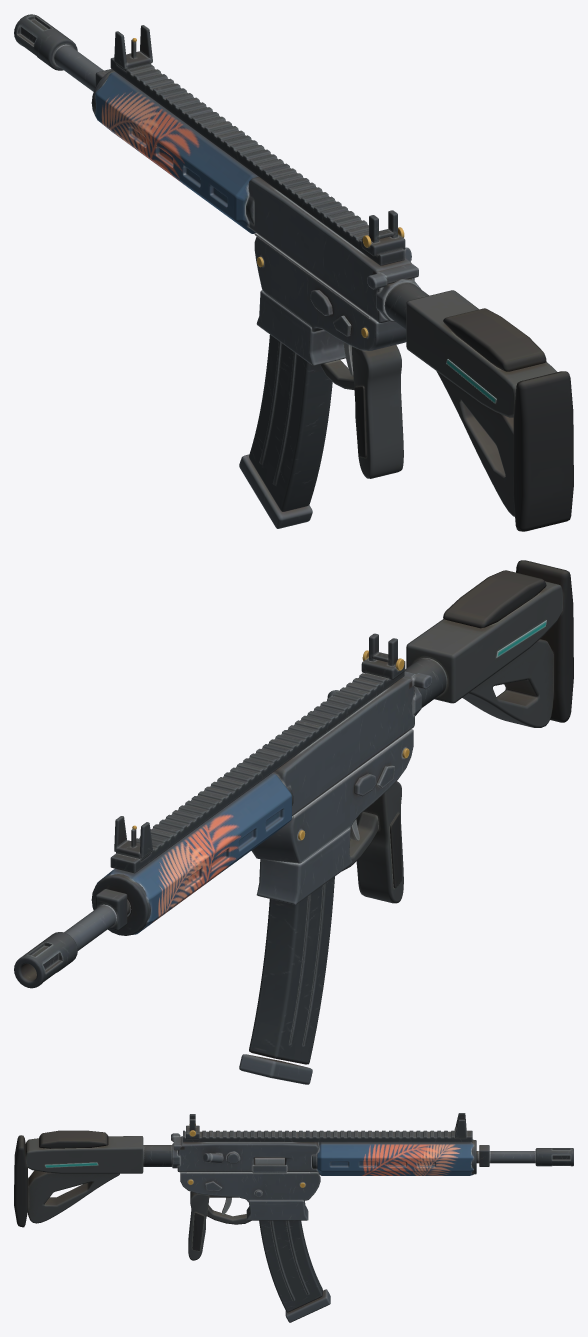
3 renders of one model, top to bottom at view 1: azimuth 30°, elevation 25°; view 2: azimuth 150°, elevation 25°; view 3: azimuth 270°, elevation 25°, orthographic. The views are drawn at different scales.
Parts seen in each view (by area): view 1: m4_body, m4_mag_mesh, m4_charge_mesh; view 2: m4_body, m4_mag_mesh; view 3: m4_body, m4_mag_mesh.
Boxes of the visible parts, bbox=[...] form: m4_body: bbox=[14, 14, 573, 531]; m4_mag_mesh: bbox=[239, 335, 332, 528]; m4_charge_mesh: bbox=[367, 263, 418, 289]; m4_body: bbox=[14, 560, 573, 988]; m4_mag_mesh: bbox=[239, 876, 334, 1084]; m4_body: bbox=[14, 1113, 573, 1260]; m4_mag_mesh: bbox=[259, 1220, 330, 1322].
Bounding box in the file's own units: 0.0664 × 0.3391 × 0.8505.
Materials: 1 (1 with a texture image).
